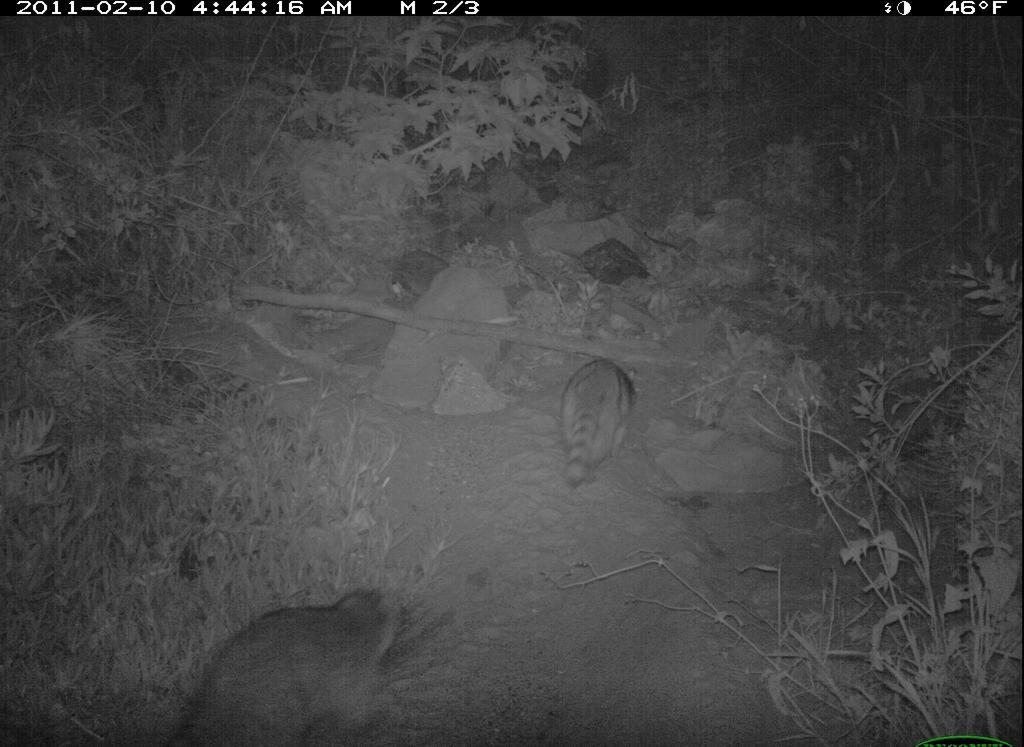raccoon: (164, 579, 419, 740), (551, 358, 646, 497)
